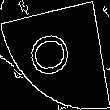O_E: (29, 28, 81, 82)
